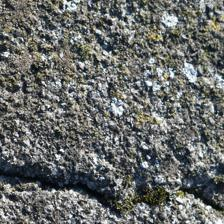Crack: (7, 153, 127, 222)
